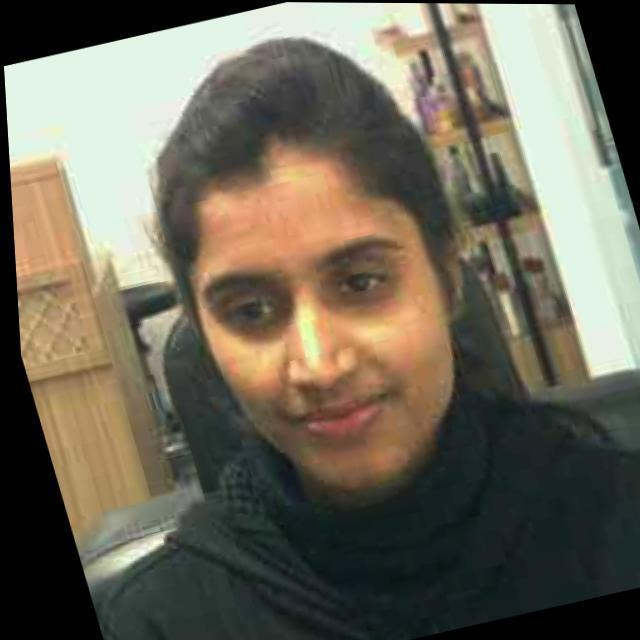puffy_eyes: (218, 288, 290, 341), (319, 288, 393, 315)
